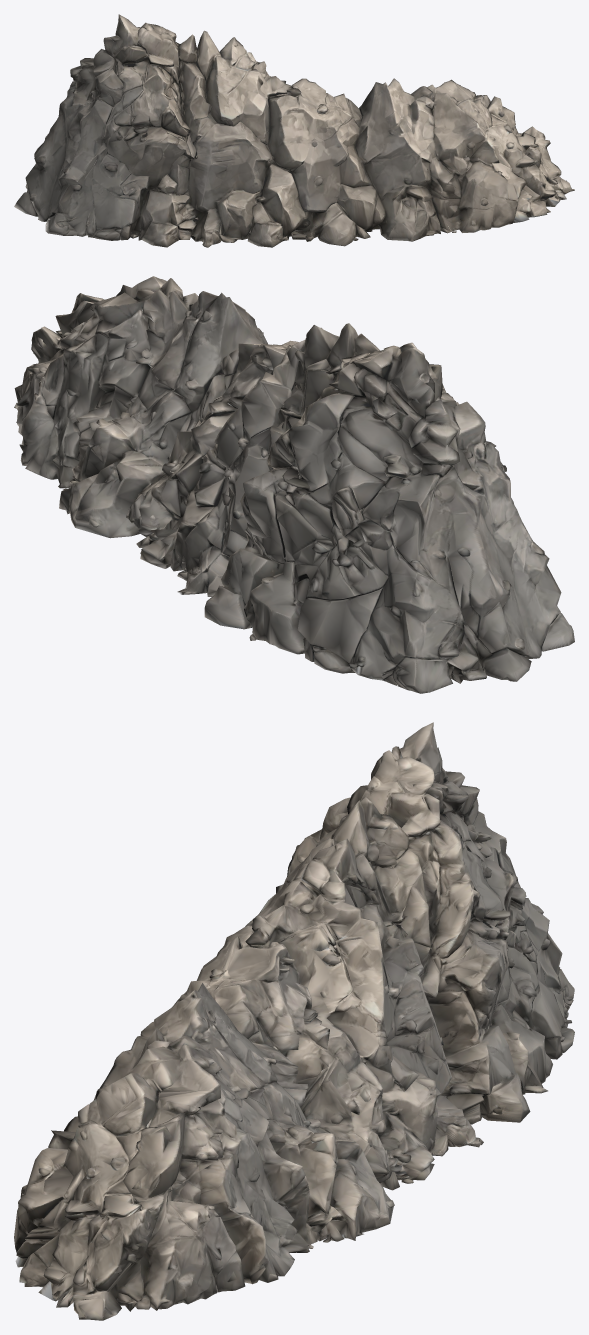
The model's file is ridge_a.glb.
The picture shows the model from 3 angles, top to bottom: view 1: azimuth 30°, elevation 25°; view 2: azimuth 150°, elevation 25°; view 3: azimuth 270°, elevation 25°; orthographic projection. The views are drawn at different scales.
Visible parts, largest first — view 1: ridge_a; view 2: ridge_a; view 3: ridge_a.
Part boxes in pixels (<box>): ridge_a: <box>14,14,574,247</box>; ridge_a: <box>14,276,574,693</box>; ridge_a: <box>14,722,574,1320</box>.
Size of the model in its own units: 40.03 by 16.05 by 26.27.
1 material, 1 textured.
